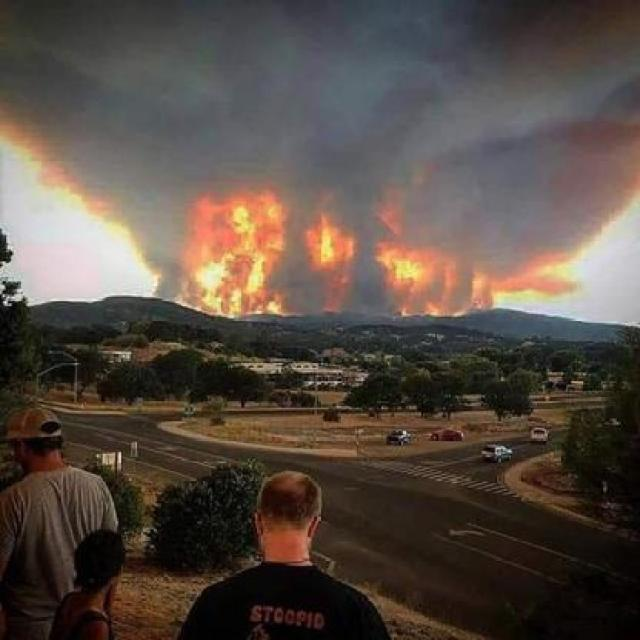Fire: (180, 210, 494, 324)
Smoke: (2, 0, 635, 211)
